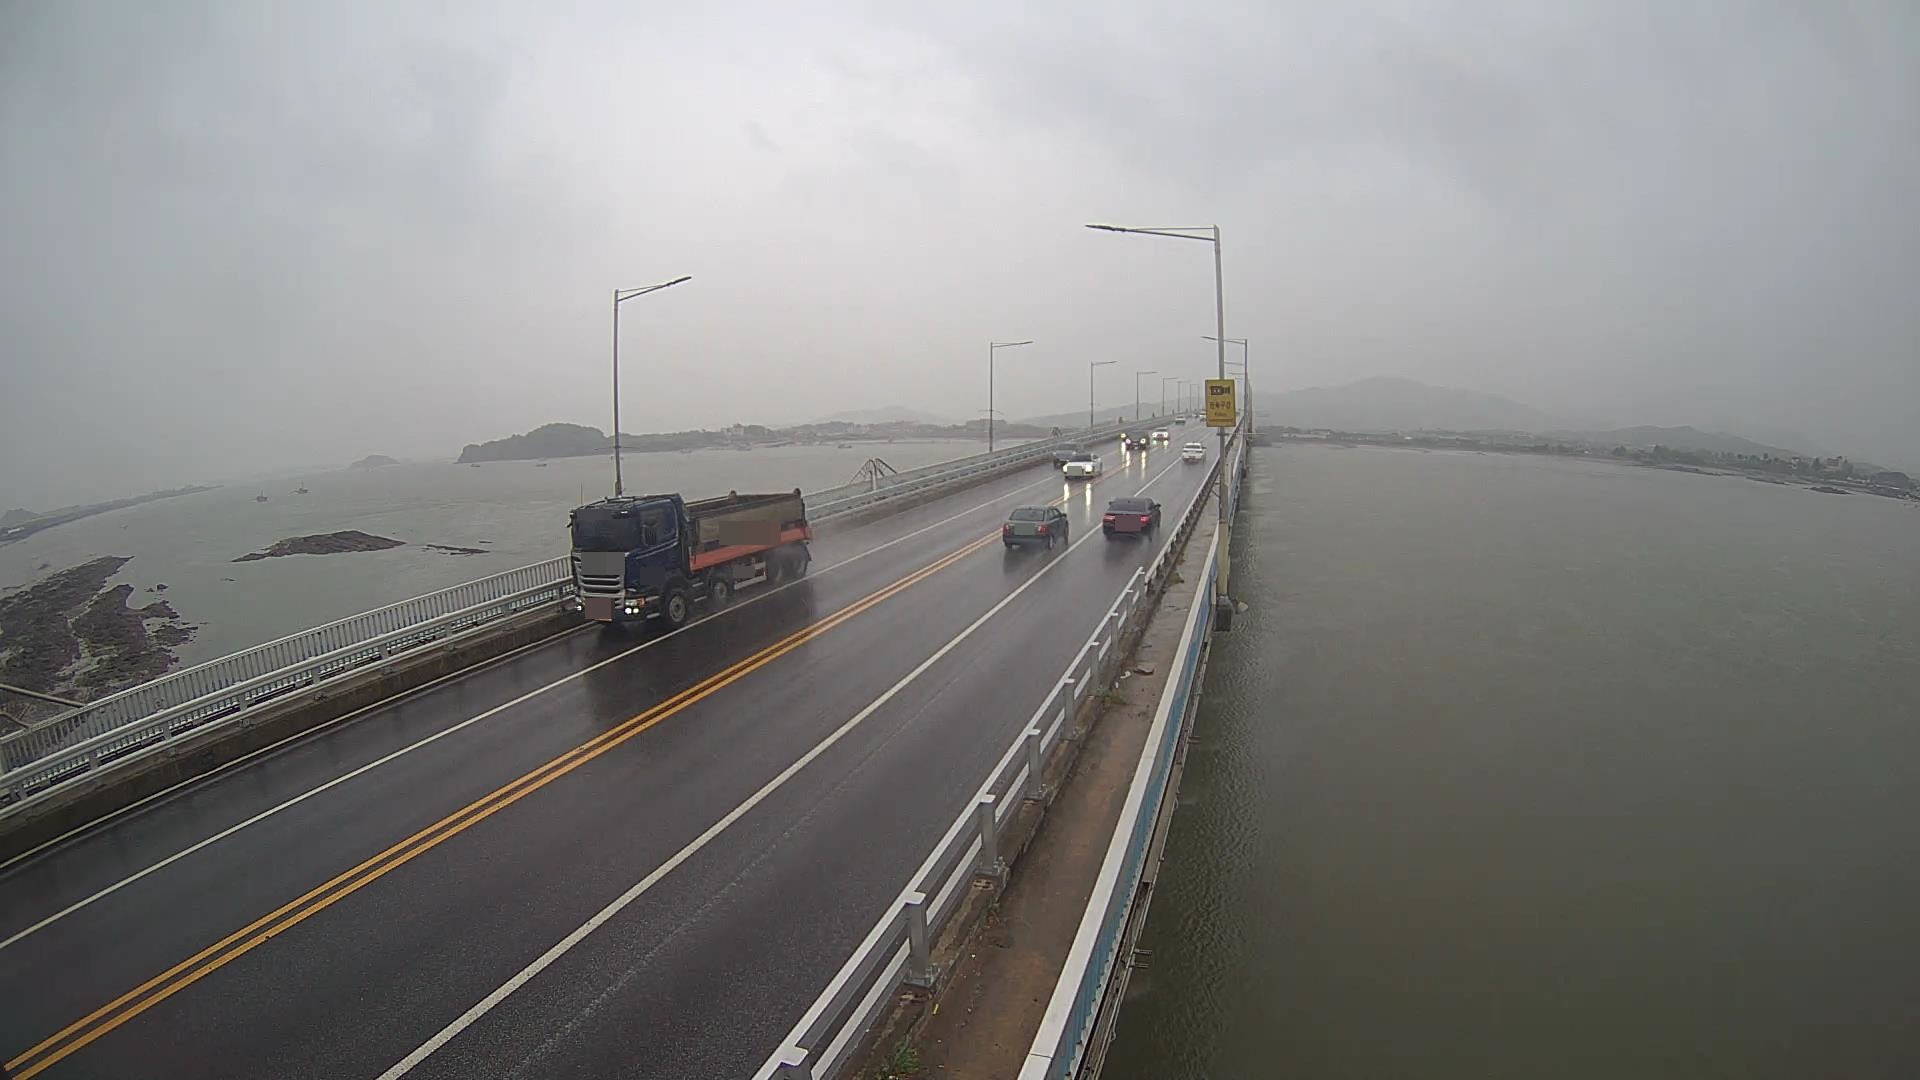정상차량: (564, 487, 815, 630)
